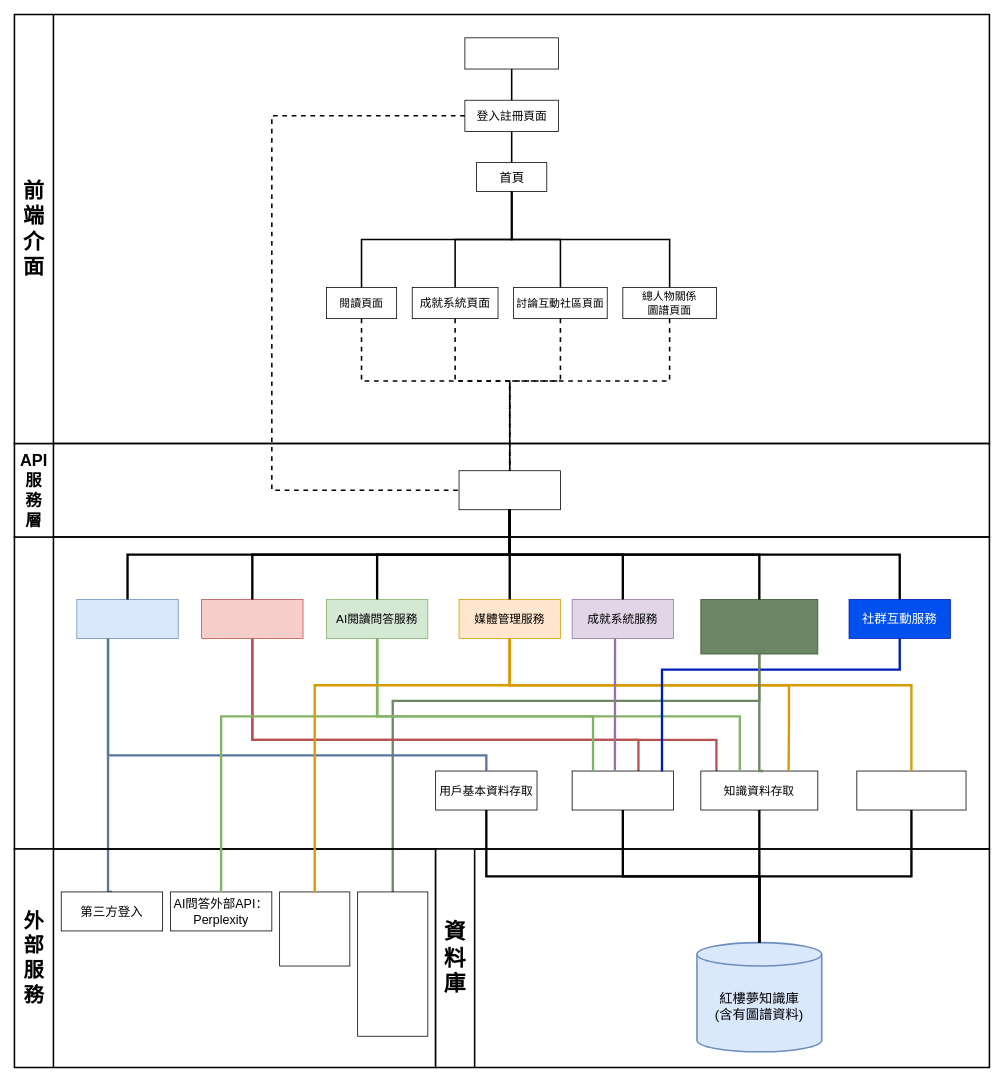
Image size: 1003x1081. Some labels were removed from this diagram. Each missing label, with the box of its shape:
AI語音 朗讀服務API: (279, 891, 350, 966)
API 閘道器 (API GateWay): (458, 470, 560, 510)
依文本自動生成章節圖譜集群 LLM Agent (實體識別+關係抽取): (357, 891, 428, 1036)
原文 內容閱讀服務: (201, 599, 303, 638)
媒體資料存取: (856, 770, 966, 810)
後 端 服 務: (13, 536, 990, 849)
用戶內容資料存取: (571, 770, 674, 810)
用戶登入註冊 認證服務: (76, 599, 178, 638)
知識圖譜生成服務 (章節圖譜、總人物關係圖譜): (700, 599, 818, 654)
訪客介紹頁面: (464, 37, 558, 69)
